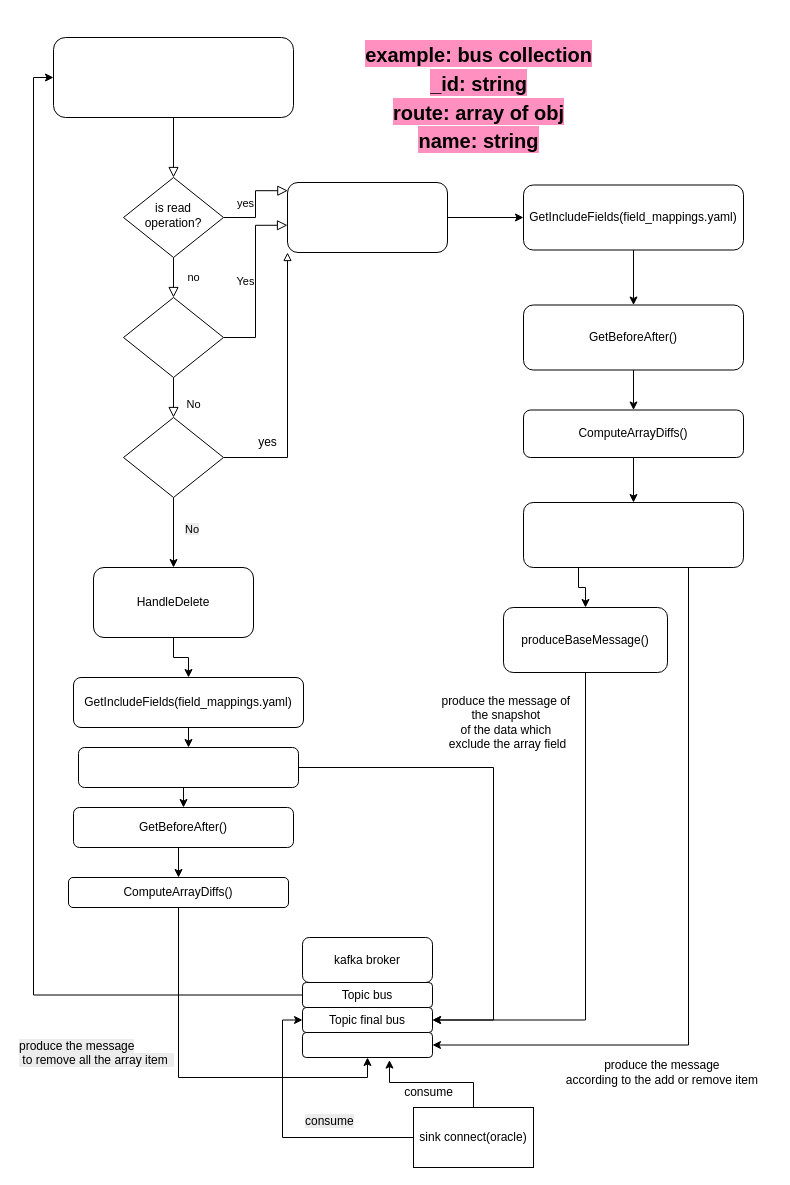
This 790x1185 diagram has some shape labels left out. The shapes that lost their labels are listed below. From the top down, each one's box as (x1, y1, x2, y2) in pixels, then its label:
(52, 36, 294, 118): start watching the topic (topic name according the .env INPUT_TOPICS)
(286, 182, 448, 252): handleUpdateOrInsert
(122, 296, 224, 378): is update operation?
(122, 416, 224, 498): is create operation?
(522, 502, 744, 568): ProcessArrayDiffs()
(78, 746, 298, 788): CreateAndWriteTopic()
(302, 1032, 432, 1058): Topic final bus route
